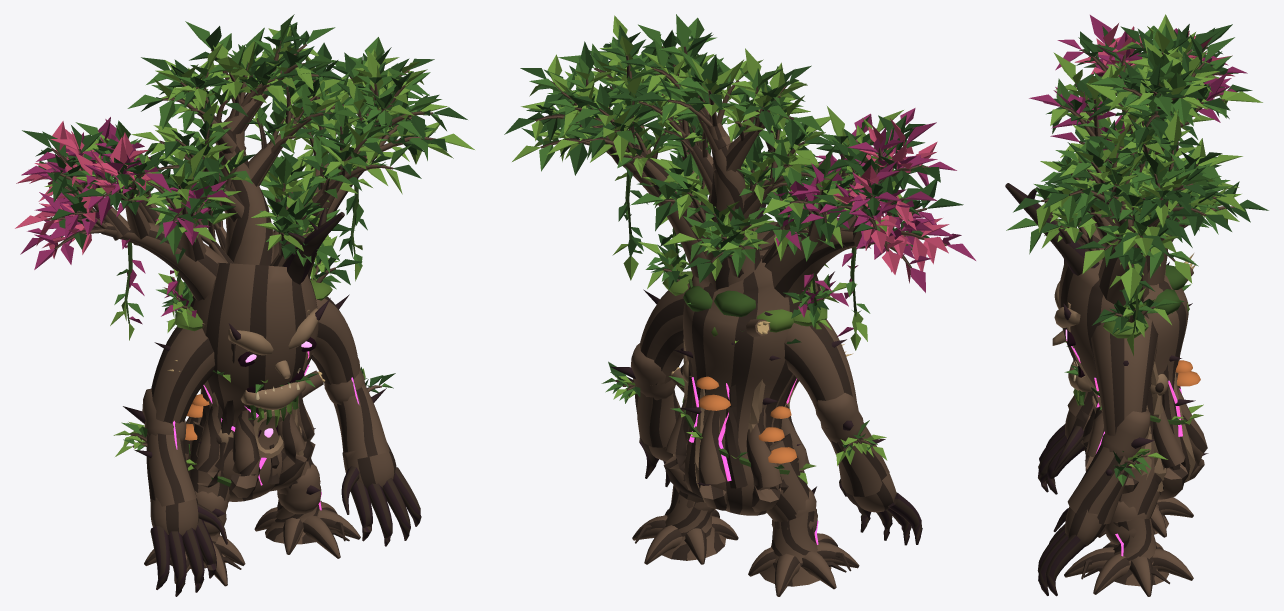
File: thorn_tree.glb
3 views of the same model, side by side, from view 1: azimuth 30°, elevation 25°; view 2: azimuth 150°, elevation 25°; view 3: azimuth 270°, elevation 25° (orthographic). The views are drawn at different scales.
Visible parts, largest first — view 1: Trunk, ArmR_Upper, BoughR_SprayTip_Leaves, BoughC_Main, BoughL_Spray2_Leaves, BoughL_Spray0_Leaves, BoughR_Spray2_Leaves, BoughR_Spray0_Leaves, BoughC_SprayTip_Leaves, InnerSpray2_Leaves, BoughC_Spray2_Leaves, BoughC_Spray0_Leaves (+52 smaller); view 2: Trunk, BoughR_Spray3_Leaves, InnerSpray3_Leaves, ArmR_Upper, BoughR_SprayTip_Leaves, BoughC_SprayTip_Leaves, BoughL_Spray1_Leaves, BoughC_Spray2_Leaves, BoughL_Spray3_Leaves, BoughR_Spray2_Leaves, BoughR_Spray1_Leaves, BoughC_Spray3_Leaves (+39 smaller); view 3: Trunk, ArmL_Upper, BoughL_SprayTip_Leaves, BoughC_Spray3_Leaves, BoughL_Spray3_Leaves, BoughL_Spray2_Leaves, BoughR_Spray0_Leaves, ArmL_Fore, BoughL_Spray1_Leaves, BoughC_SprayTip_Leaves, BoughR_Spray2_Leaves, BoughC_Spray1_Leaves (+43 smaller).
Boxes of the visible parts, <box> form: Trunk: <box>190,262,318,501</box>; ArmR_Upper: <box>151,326,214,423</box>; BoughR_SprayTip_Leaves: <box>15,162,112,269</box>; BoughC_Main: <box>218,106,274,265</box>; BoughL_Spray2_Leaves: <box>354,50,467,140</box>; BoughL_Spray0_Leaves: <box>317,94,421,194</box>; BoughR_Spray2_Leaves: <box>64,132,171,225</box>; BoughR_Spray0_Leaves: <box>130,144,235,255</box>; BoughC_SprayTip_Leaves: <box>185,21,309,106</box>; InnerSpray2_Leaves: <box>251,183,354,274</box>; BoughC_Spray2_Leaves: <box>127,43,238,129</box>; BoughC_Spray0_Leaves: <box>131,100,232,181</box>; Trunk: <box>683,222,820,515</box>; BoughR_Spray3_Leaves: <box>812,158,937,253</box>; InnerSpray3_Leaves: <box>663,189,775,283</box>; ArmR_Upper: <box>784,319,857,425</box>; BoughR_SprayTip_Leaves: <box>856,179,975,292</box>; BoughC_SprayTip_Leaves: <box>630,49,763,124</box>; BoughL_Spray1_Leaves: <box>547,70,659,175</box>; BoughC_Spray2_Leaves: <box>728,48,824,148</box>; BoughL_Spray3_Leaves: <box>504,41,613,142</box>; BoughR_Spray2_Leaves: <box>847,108,956,189</box>; BoughR_Spray1_Leaves: <box>763,145,884,247</box>; BoughC_Spray3_Leaves: <box>620,14,716,94</box>; Trunk: <box>1059,229,1189,494</box>; ArmL_Upper: <box>1091,315,1158,435</box>; BoughL_SprayTip_Leaves: <box>1074,188,1200,300</box>; BoughC_Spray3_Leaves: <box>1089,47,1207,152</box>; BoughL_Spray3_Leaves: <box>1132,150,1231,235</box>; BoughL_Spray2_Leaves: <box>1043,126,1139,223</box>; BoughR_Spray0_Leaves: <box>1029,52,1125,133</box>; ArmL_Fore: <box>1067,444,1132,524</box>; BoughL_Spray1_Leaves: <box>1148,109,1245,217</box>; BoughC_SprayTip_Leaves: <box>1122,33,1234,126</box>; BoughR_Spray2_Leaves: <box>1055,15,1142,76</box>; BoughC_Spray1_Leaves: <box>1080,99,1200,189</box>.
Size of the model in its own units: 5.56 by 6.44 by 2.92.
